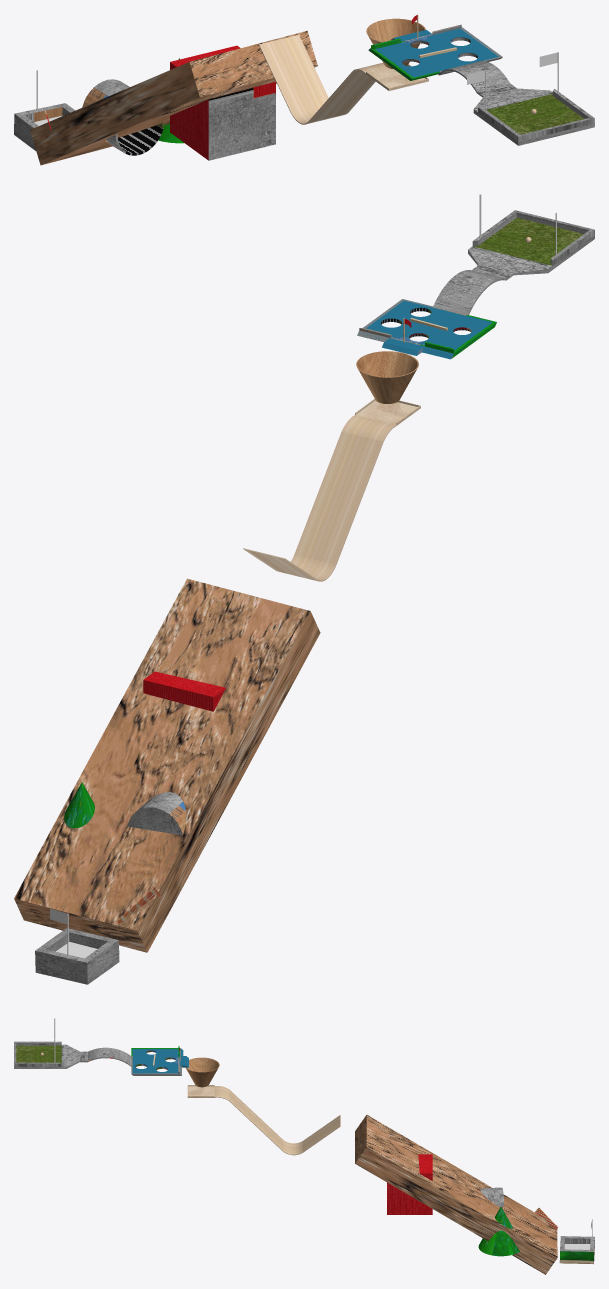
The model's file is baylonLevel.glb.
The picture shows the model from 3 angles, top to bottom: view 1: azimuth 30°, elevation 25°; view 2: azimuth 150°, elevation 25°; view 3: azimuth 270°, elevation 25°; orthographic projection. The views are drawn at different scales.
Parts seen in each view (by area): view 1: Cube.solid.{}, Cube001.solid.{}, course.solid.{}, sol002.solid.{}, sol01.solid.{}, cylinder.solid.{}, sortie.solid.{}, Cone.solid.{}, Cone.solid.{}.001; view 2: Cube.solid.{}, sol002.solid.{}, course.solid.{}, sol01.solid.{}, sortie.solid.{}, Cone.solid.{}, Cube001.solid.{}, cylinder.solid.{}; view 3: Cube.solid.{}, course.solid.{}, sol002.solid.{}, sol01.solid.{}, Cube001.solid.{}, Cone.solid.{}.001, sortie.solid.{}, Cone.solid.{}.
Part boxes in pixels (x1=…): Cube.solid.{}: x1=30, y1=30, x2=317, y2=165; Cube001.solid.{}: x1=170, y1=45, x2=275, y2=160; course.solid.{}: x1=438, y1=61, x2=594, y2=145; sol002.solid.{}: x1=259, y1=35, x2=428, y2=124; sol01.solid.{}: x1=368, y1=24, x2=502, y2=80; cylinder.solid.{}: x1=82, y1=79, x2=164, y2=155; sortie.solid.{}: x1=14, y1=103, x2=74, y2=150; Cone.solid.{}: x1=366, y1=18, x2=425, y2=68; Cone.solid.{}.001: x1=158, y1=58, x2=183, y2=143; Cube.solid.{}: x1=14, y1=578, x2=320, y2=952; sol002.solid.{}: x1=243, y1=399, x2=420, y2=581; course.solid.{}: x1=433, y1=210, x2=594, y2=314; sol01.solid.{}: x1=357, y1=299, x2=496, y2=359; sortie.solid.{}: x1=35, y1=928, x2=119, y2=984; Cone.solid.{}: x1=356, y1=351, x2=418, y2=403; Cube001.solid.{}: x1=143, y1=671, x2=225, y2=711; cylinder.solid.{}: x1=127, y1=792, x2=186, y2=835; Cube.solid.{}: x1=355, y1=1115, x2=557, y2=1274; course.solid.{}: x1=14, y1=1041, x2=131, y2=1068; sol002.solid.{}: x1=187, y1=1085, x2=340, y2=1155; sol01.solid.{}: x1=131, y1=1046, x2=188, y2=1075; Cube001.solid.{}: x1=387, y1=1154, x2=432, y2=1214; Cone.solid.{}.001: x1=478, y1=1206, x2=519, y2=1256; sortie.solid.{}: x1=559, y1=1236, x2=594, y2=1264; Cone.solid.{}: x1=186, y1=1057, x2=219, y2=1087.
Bounding box in the file's own units: 54.8 × 152 × 342.
Materials: 2 (2 with a texture image).
